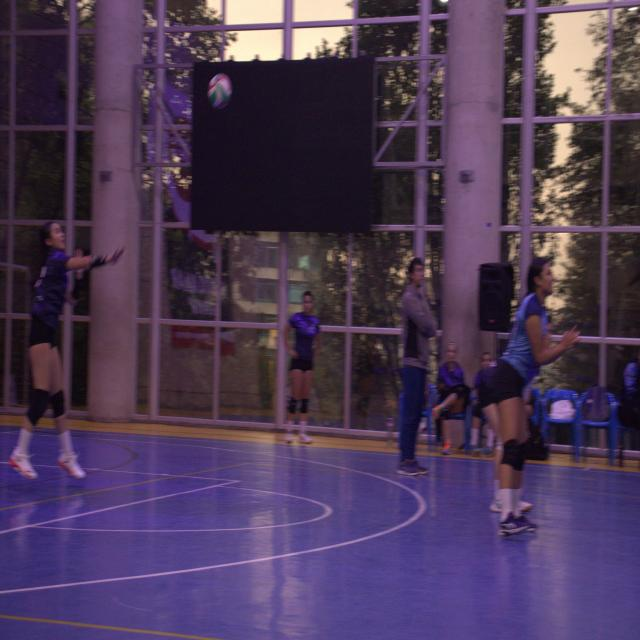volleyball: (207, 75, 230, 107)
